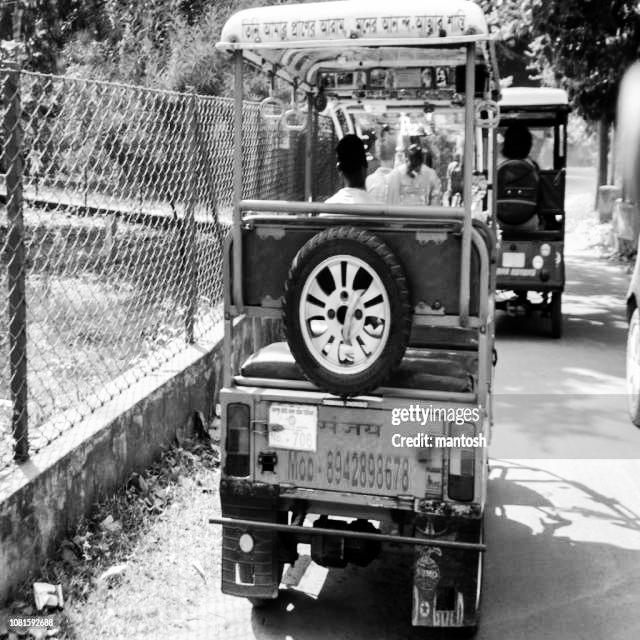Toto: (202, 0, 502, 640), (491, 79, 577, 341)
